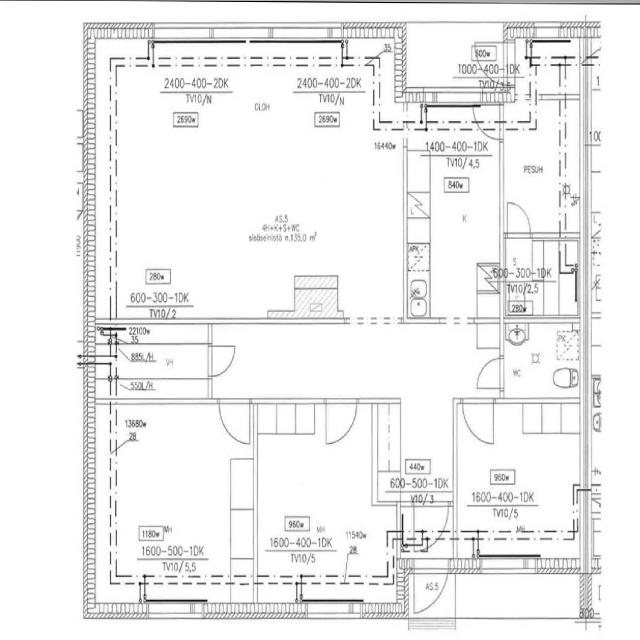door: (414, 558, 447, 617), (471, 42, 515, 85), (414, 502, 448, 552), (463, 398, 494, 443), (219, 399, 249, 443), (327, 398, 356, 442), (473, 104, 503, 140), (507, 203, 530, 240), (476, 359, 504, 388), (208, 346, 235, 376)
